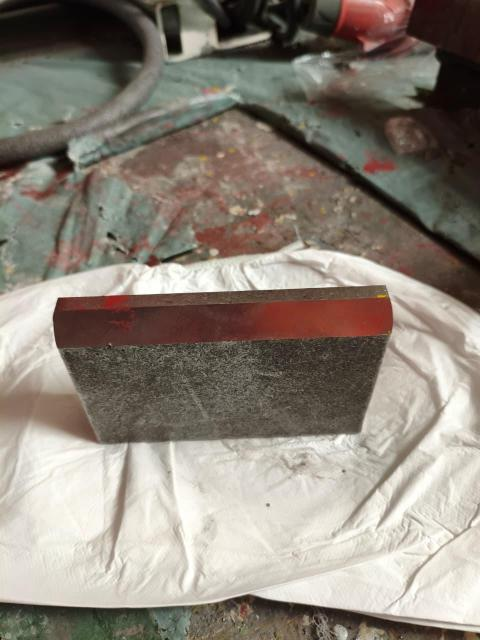Organik: (57, 287, 388, 438)
